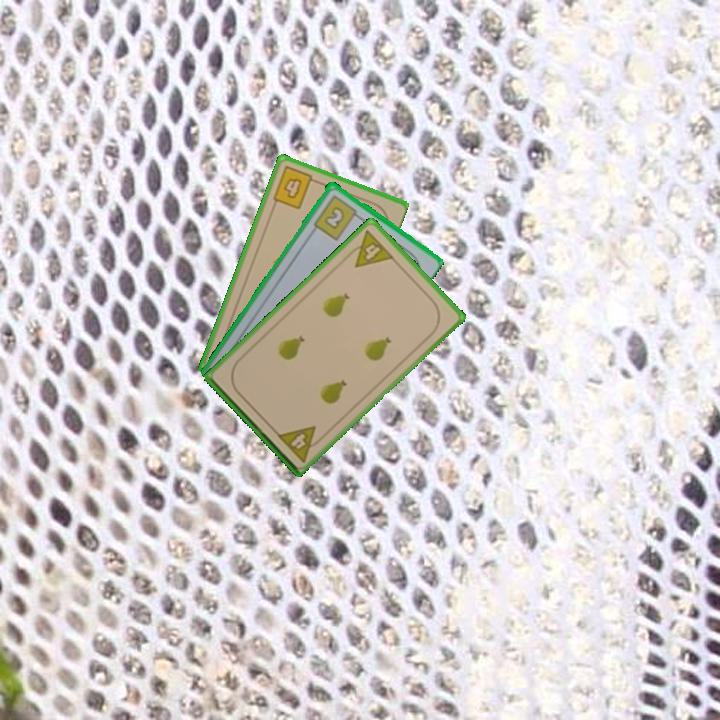2b: (310, 191, 364, 243)
4b: (269, 162, 321, 212)
4p: (342, 226, 397, 270), (273, 422, 327, 465)
